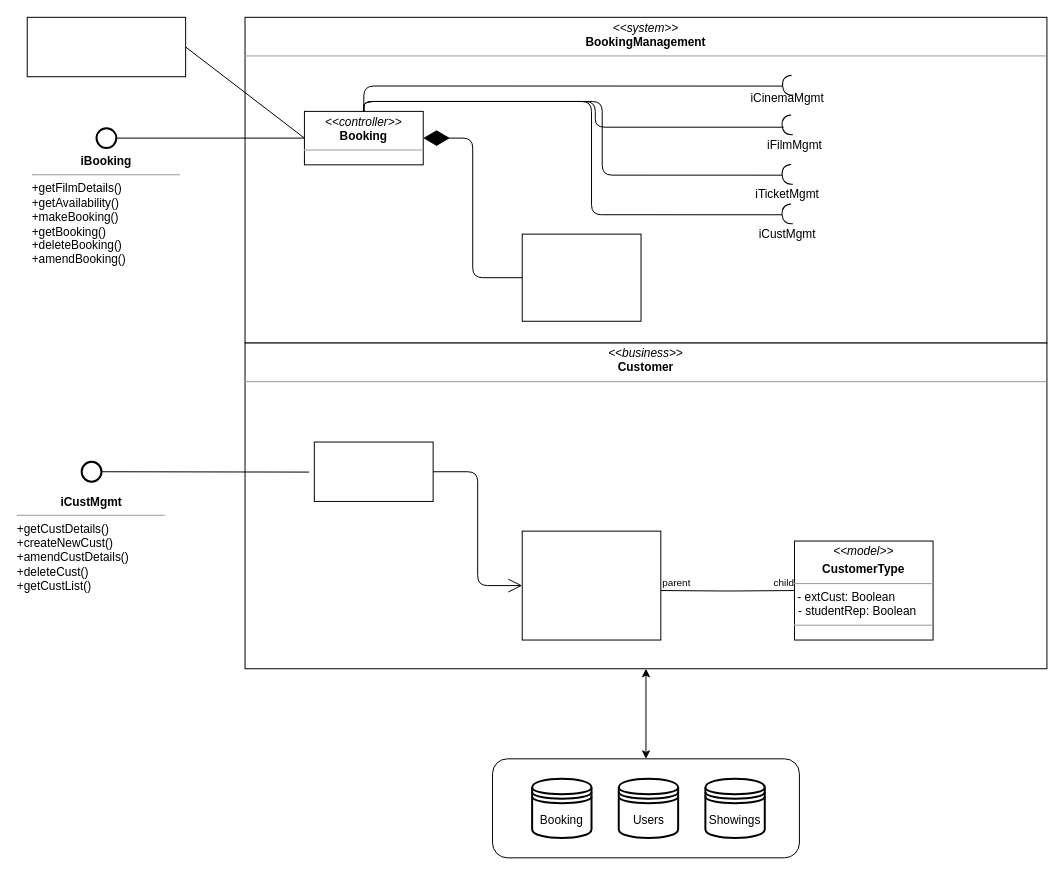
This 1064x875 diagram has some shape labels left out. Here are the shapes that lost their labels. From the top down, the centre of each, then its label:
At (x=106, y=46): "<<ExternalPaymentSystem>>".
At (x=581, y=277): "<<model>> BookingModel - bookingNo: String".
At (x=373, y=471): "<<controller>> Customer".
At (x=591, y=585): "<<model>> CustModel - custID: String - custName: String - custEmail: String".
